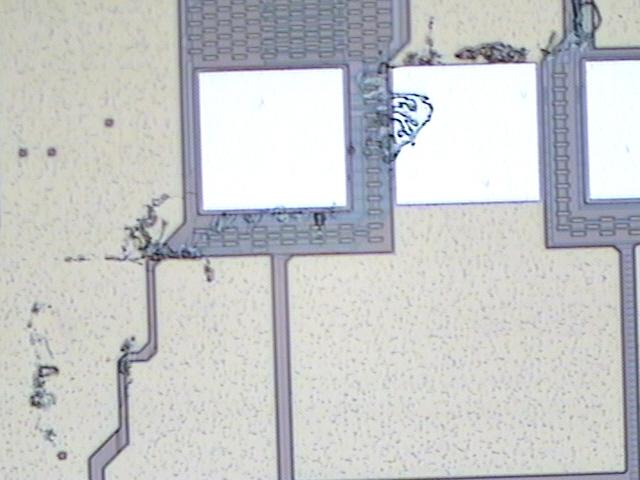SCRATCH: (19, 1, 610, 466)
